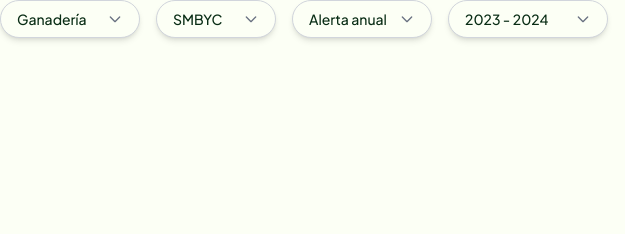
Scenario: FilterSelects › risk options › lists the risks it receives
The image size is (625, 234).
Click the text "Alerta anual".
click(354, 19)  # box left=309, top=9, right=399, bottom=29
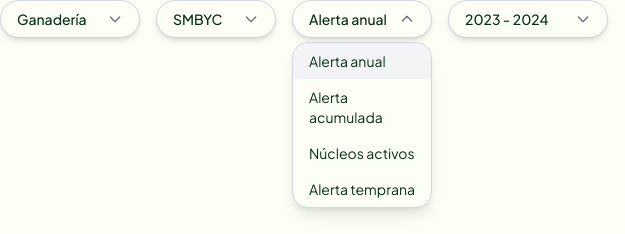
Expected: the text "Núcleos activos" is shown, left=309, top=144, right=415, bottom=162
Expected: the text "Alerta temprana" is shown, left=309, top=180, right=415, bottom=198
